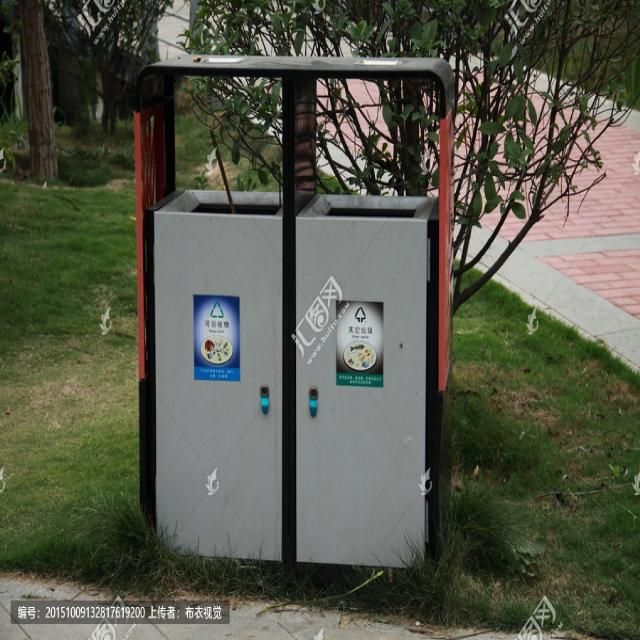garbage_bin: (132, 52, 453, 568)
